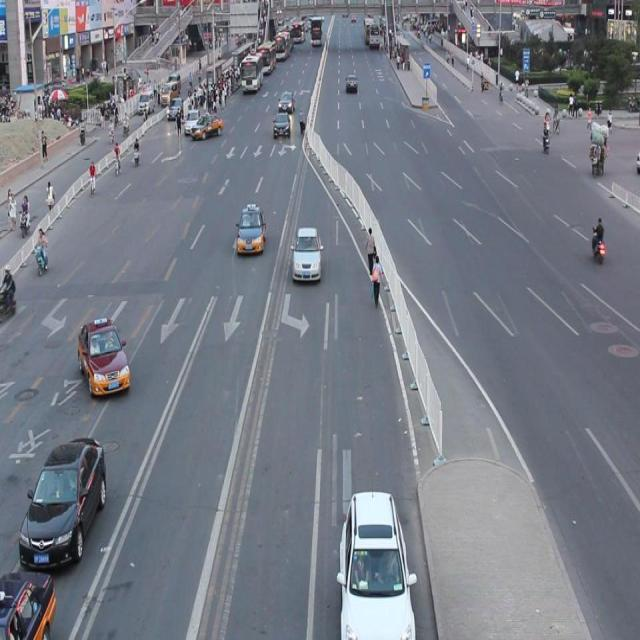car: (17, 431, 107, 568), (338, 486, 416, 640), (76, 316, 130, 397), (1, 564, 56, 640), (290, 225, 322, 282), (234, 203, 266, 257)
